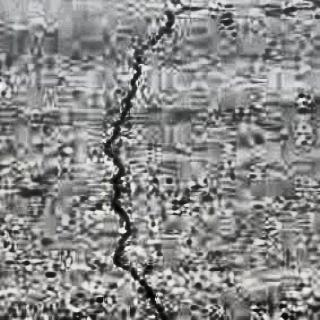crack: (101, 8, 183, 318)
